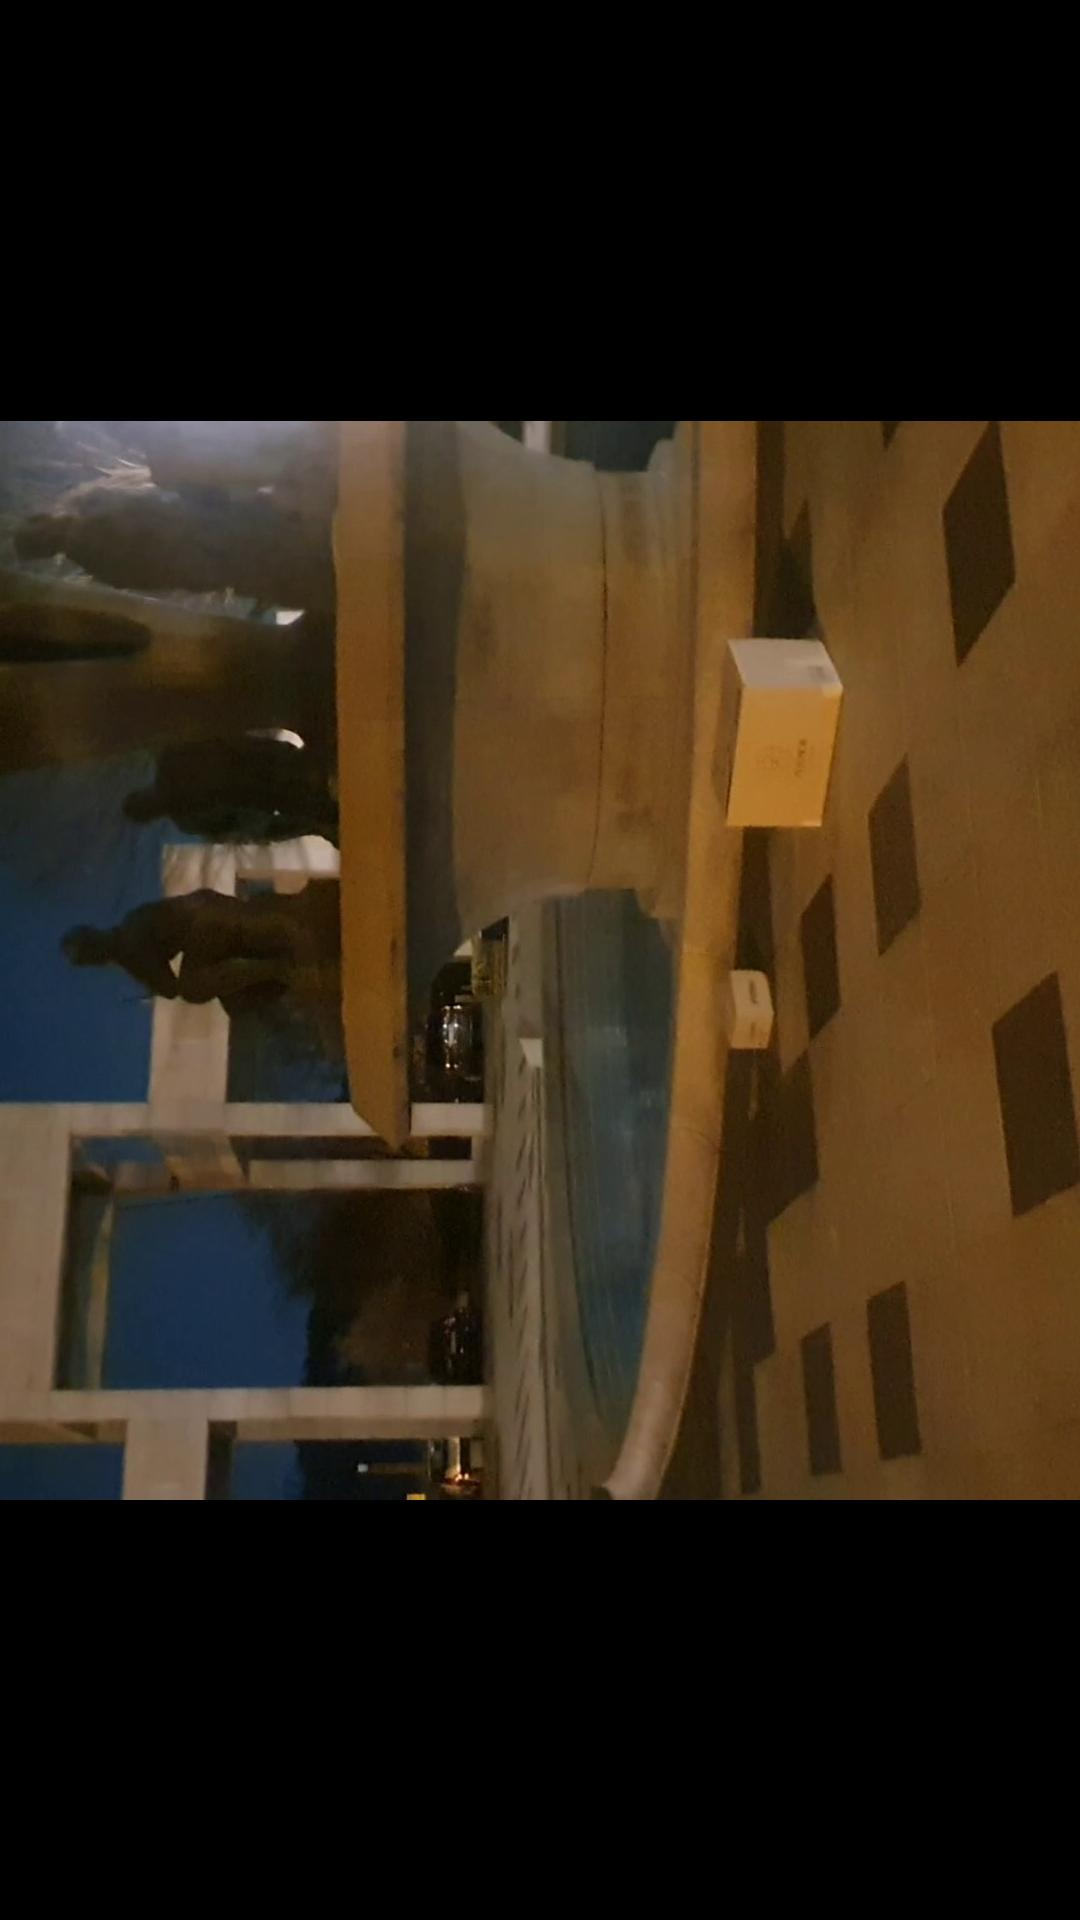Box: (708, 638, 848, 833), (703, 953, 781, 1067)
